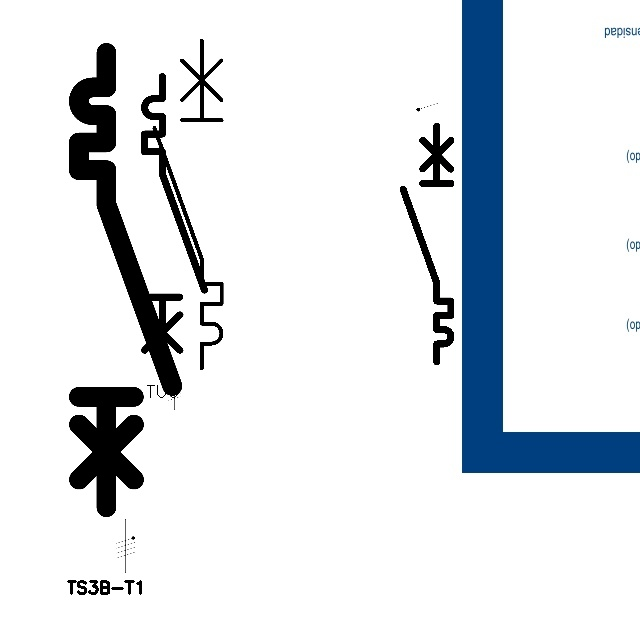interruptor_termomagnetico: (67, 41, 184, 519), (146, 32, 230, 377), (137, 69, 212, 375), (397, 120, 457, 368)
